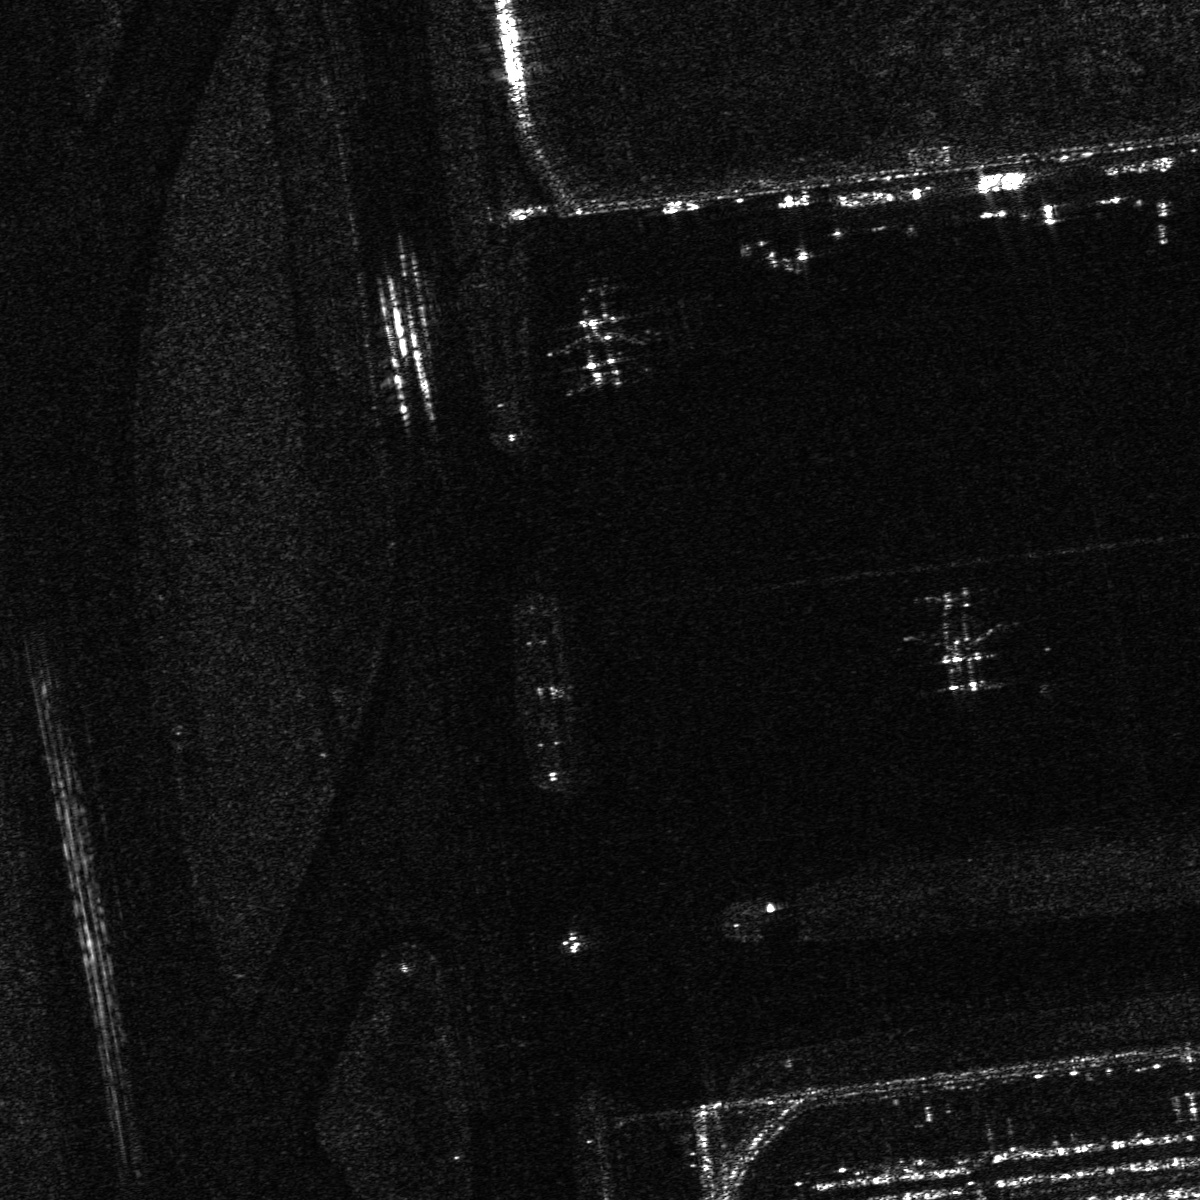A220: (545, 295, 652, 400)
A330: (909, 580, 1016, 691)
